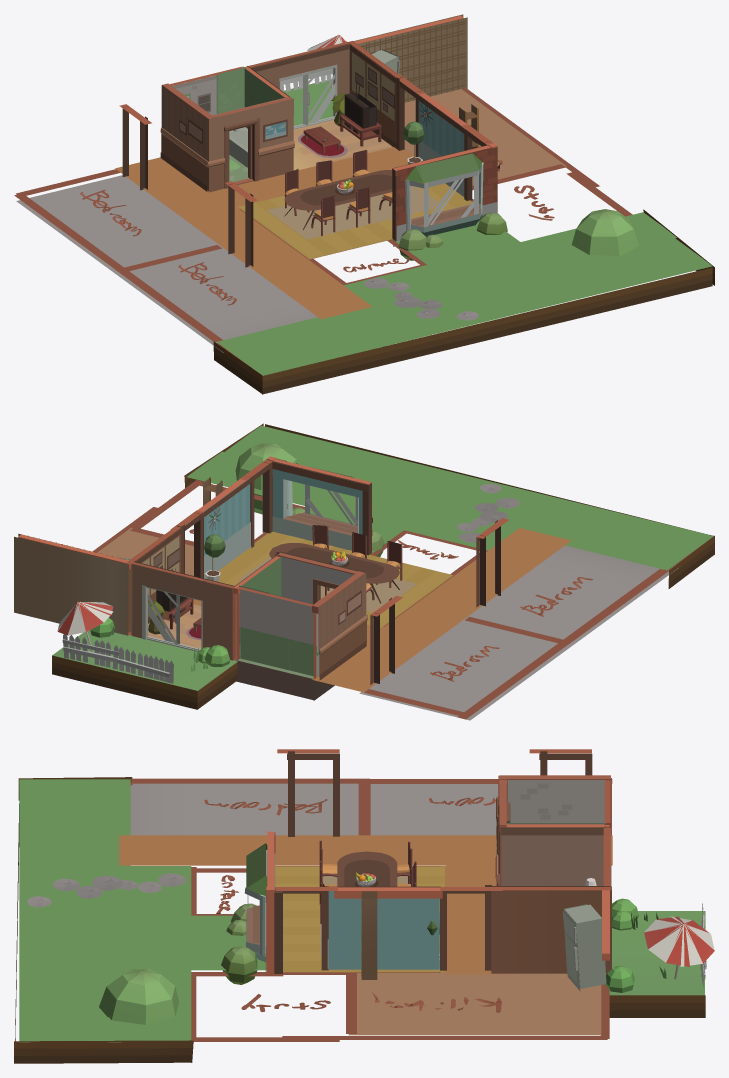
File: House.fbx
The picture shows the model from 3 angles, top to bottom: view 1: azimuth 30°, elevation 25°; view 2: azimuth 150°, elevation 25°; view 3: azimuth 270°, elevation 25°; orthographic projection. The views are drawn at different scales.
Parts seen in each view (by area): view 1: Frontyard, Wip, Kitchen, Diningroomfloor, Diningroom-wall3, bathroomwall3, Diningroom-table, Bathroomwall4, Livingroom-wall1, Livingroom-wall2, Diningroom-wall, Bathroomwall1 (+5 smaller); view 2: Wip, Frontyard, Oudoors, Kitchen, Livingroom-wall1, Bathroomwall1, Diningroom-wall3, Diningroomfloor, Diningroom-wall, Bathroomwall4, Diningroom-table, bathroomwall3 (+6 smaller); view 3: Frontyard, Wip, Kitchen, Oudoors, Diningroom-wall, Livingroom-wall2, Bathroomwall2, Diningroomfloor, Bathroomwall4, Diningroom-wall3, Diningroom-table, bathroomwall3.
Boxes of the visible parts, x1,y1,x2,y2 form: Frontyard: (213,209,714,394); Wip: (14,52,632,370); Kitchen: (354,14,566,185); Diningroomfloor: (238,169,472,259); Diningroom-wall3: (392,143,497,246); bathroomwall3: (205,96,294,192); Diningroom-table: (284,150,392,236); Bathroomwall4: (160,83,214,191); Livingroom-wall1: (242,42,350,129); Livingroom-wall2: (348,41,424,156); Diningroom-wall: (417,93,493,200); Bathroomwall1: (170,67,246,115); Wip: (92,480,706,720); Frontyard: (184,423,714,588); Oudoors: (52,601,237,709); Kitchen: (14,477,222,635); Livingroom-wall1: (132,561,239,661); Bathroomwall1: (239,585,316,678); Diningroom-wall3: (266,456,372,555); Diningroomfloor: (218,531,453,627); Diningroom-wall: (197,459,272,578); Bathroomwall4: (312,571,367,680); Diningroom-table: (269,525,402,603); bathroomwall3: (277,551,367,620); Frontyard: (14,777,266,1063); Wip: (119,749,612,1041); Kitchen: (348,890,609,1035); Oudoors: (605,898,714,1017); Diningroom-wall: (274,886,442,973); Livingroom-wall2: (440,885,611,974); Bathroomwall2: (499,823,609,885); Diningroomfloor: (275,866,444,972); Bathroomwall4: (498,775,610,823); Diningroom-wall3: (244,831,275,975); Diningroom-table: (319,840,416,923); bathroomwall3: (495,780,510,885).
Size of the model in its own units: 27.12 by 6.29 by 30.2.
